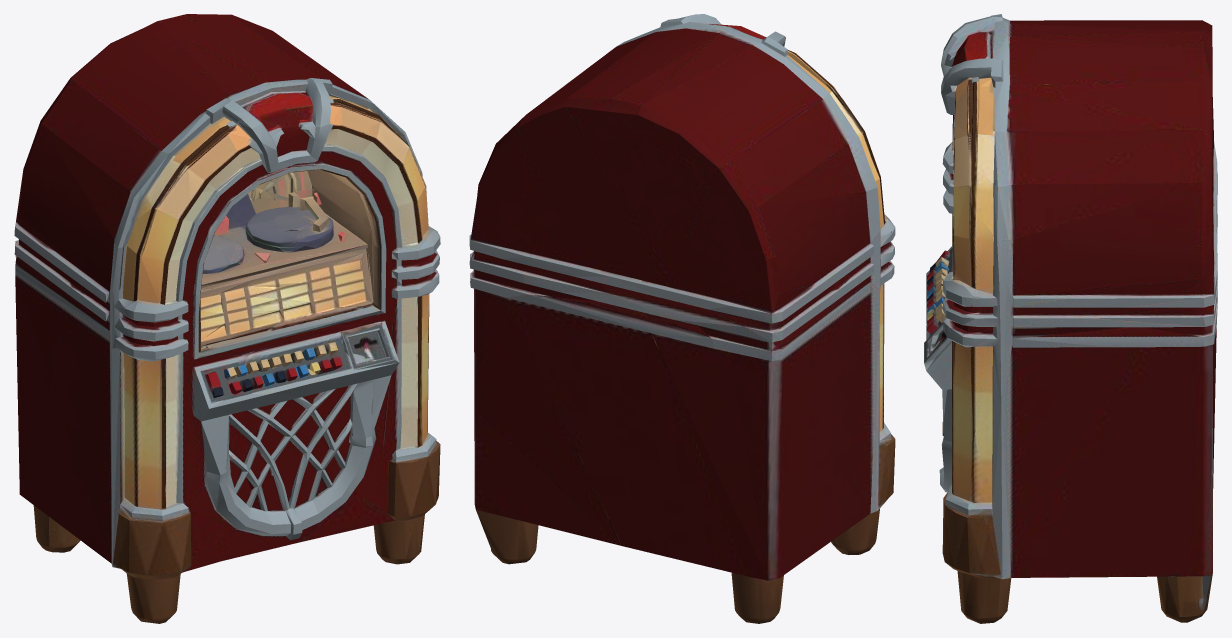
File: jukebox.glb
3 renders of one model, left to right at view 1: azimuth 30°, elevation 25°; view 2: azimuth 150°, elevation 25°; view 3: azimuth 270°, elevation 25°, orthographic. The views are drawn at different scales.
Bounding box in the file's own units: 1.26 × 1.9 × 0.9744.
Materials: 1 (1 with a texture image).
